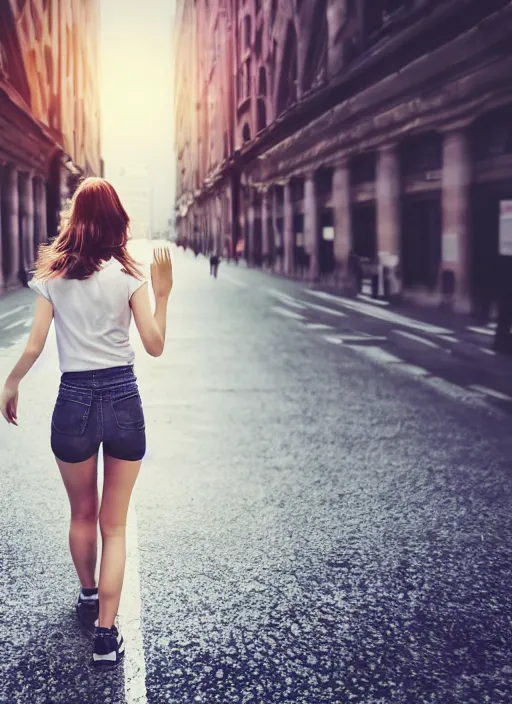person: (1, 174, 185, 671)
